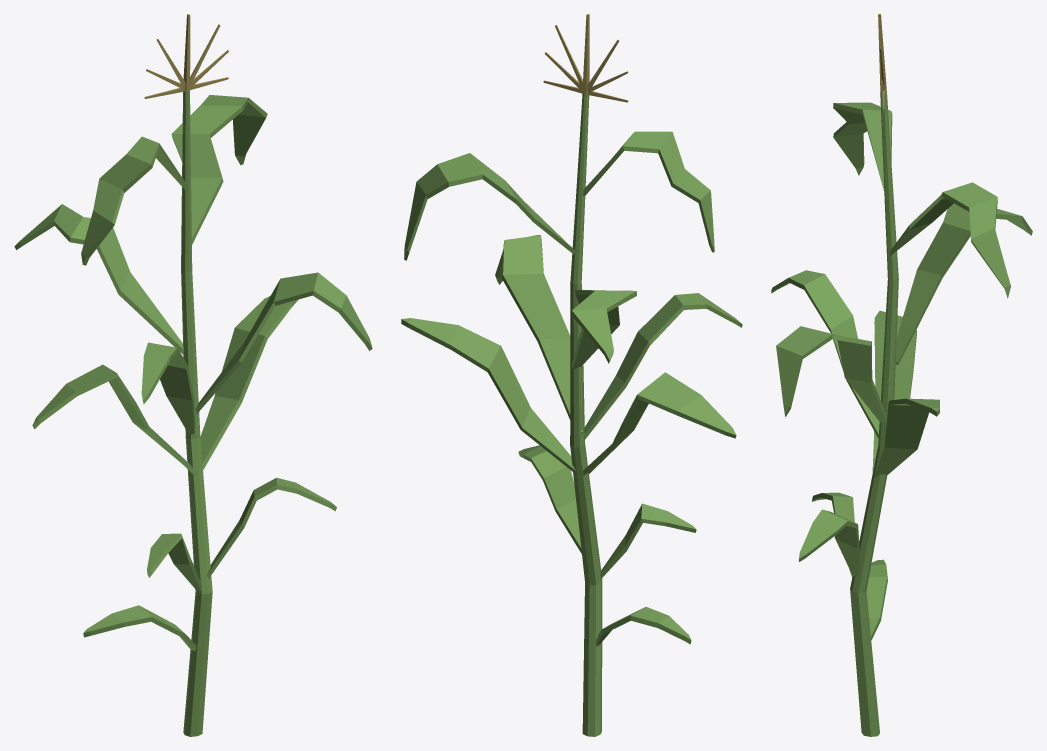
The model's file is Corn_Harvested.glb.
3 views of the same model, side by side, from view 1: azimuth 30°, elevation 25°; view 2: azimuth 150°, elevation 25°; view 3: azimuth 270°, elevation 25° (orthographic).
Visible parts, largest first — view 1: Corn_Harvested; view 2: Corn_Harvested; view 3: Corn_Harvested.
Boxes of the visible parts, x1=… form: Corn_Harvested: x1=14, y1=14, x2=372, y2=736; Corn_Harvested: x1=401, y1=14, x2=742, y2=736; Corn_Harvested: x1=771, y1=14, x2=1032, y2=736.
Size of the model in its own units: 0.8873 by 1.97 by 0.649.
